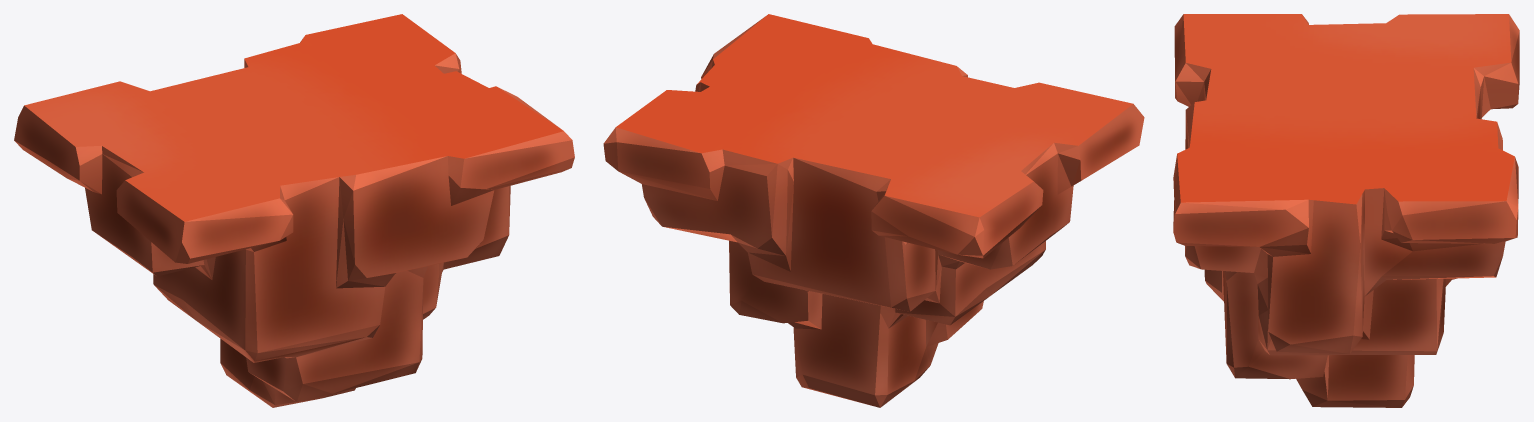
The model's file is Platform_3_4.fbx.
The picture shows the model from 3 angles, left to right: view 1: azimuth 30°, elevation 25°; view 2: azimuth 150°, elevation 25°; view 3: azimuth 270°, elevation 25°; orthographic projection. The views are drawn at different scales.
Parts seen in each view (by area): view 1: Cube.074; view 2: Cube.074; view 3: Cube.074.
Boxes of the visible parts, bbox=[...] form: Cube.074: bbox=[14, 14, 574, 407]; Cube.074: bbox=[603, 14, 1144, 407]; Cube.074: bbox=[1173, 14, 1519, 407].
Bounding box in the file's own units: 400 × 265 × 300.
